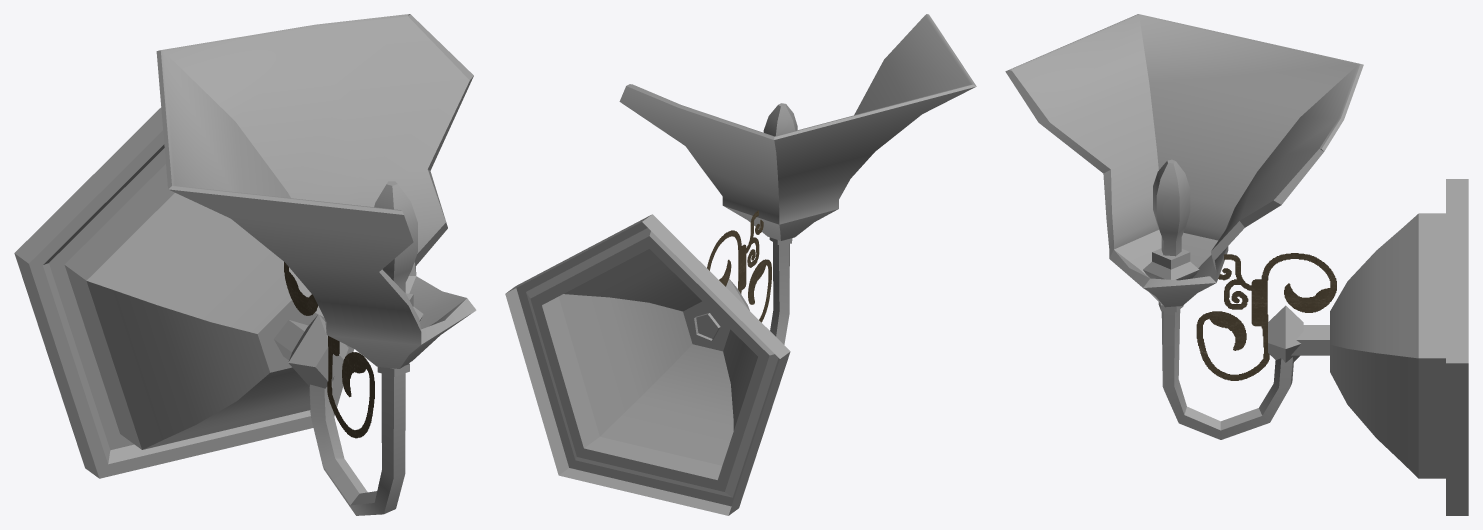
File: Prop_LampC.fbx
3 renders of one model, left to right at view 1: azimuth 30°, elevation 25°; view 2: azimuth 150°, elevation 25°; view 3: azimuth 270°, elevation 25°, orthographic. The views are drawn at different scales.
Visible parts, largest first — view 1: Mesh; view 2: Mesh; view 3: Mesh.
Boxes of the visible parts, x1,y1,x2,y2 form: Mesh: (14, 14, 476, 515); Mesh: (505, 14, 976, 515); Mesh: (1005, 14, 1468, 515).
Size of the model in its own units: 28.45 by 29.3 by 33.64.
